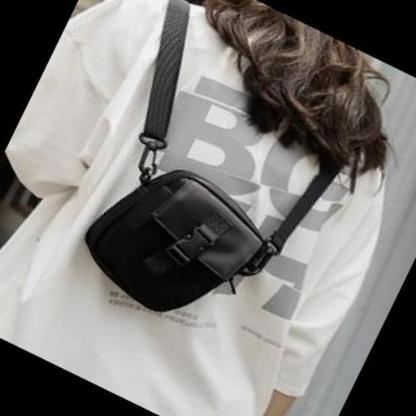bag: (77, 144, 286, 315)
